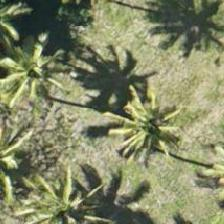coconut_tree: (99, 75, 189, 165), (0, 27, 72, 117), (18, 166, 108, 223)
